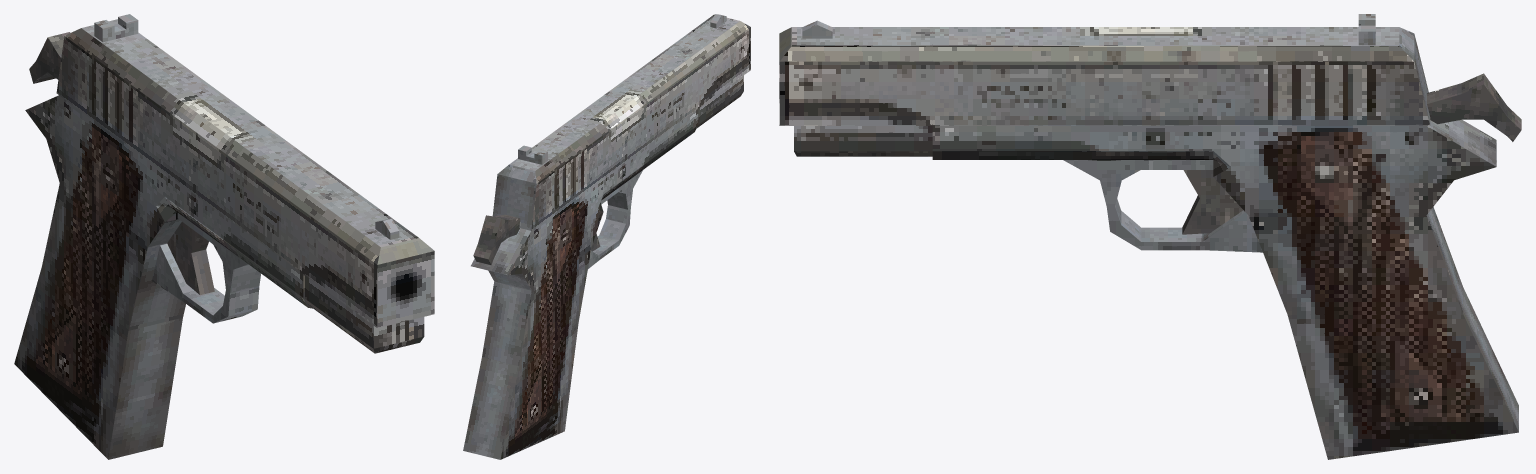
The model's file is PSX_Colt1911.glb.
3 views of the same model, side by side, from view 1: azimuth 30°, elevation 25°; view 2: azimuth 150°, elevation 25°; view 3: azimuth 270°, elevation 25° (orthographic). The views are drawn at different scales.
Parts seen in each view (by area): view 1: SM_Colt1911; view 2: SM_Colt1911; view 3: SM_Colt1911.
Boxes of the visible parts, x1=… form: SM_Colt1911: x1=14, y1=14, x2=434, y2=459; SM_Colt1911: x1=463, y1=14, x2=750, y2=459; SM_Colt1911: x1=779, y1=14, x2=1521, y2=459.
Bounding box in the file's own units: 0.0335 × 0.2332 × 0.3702.
1 material, 1 textured.
